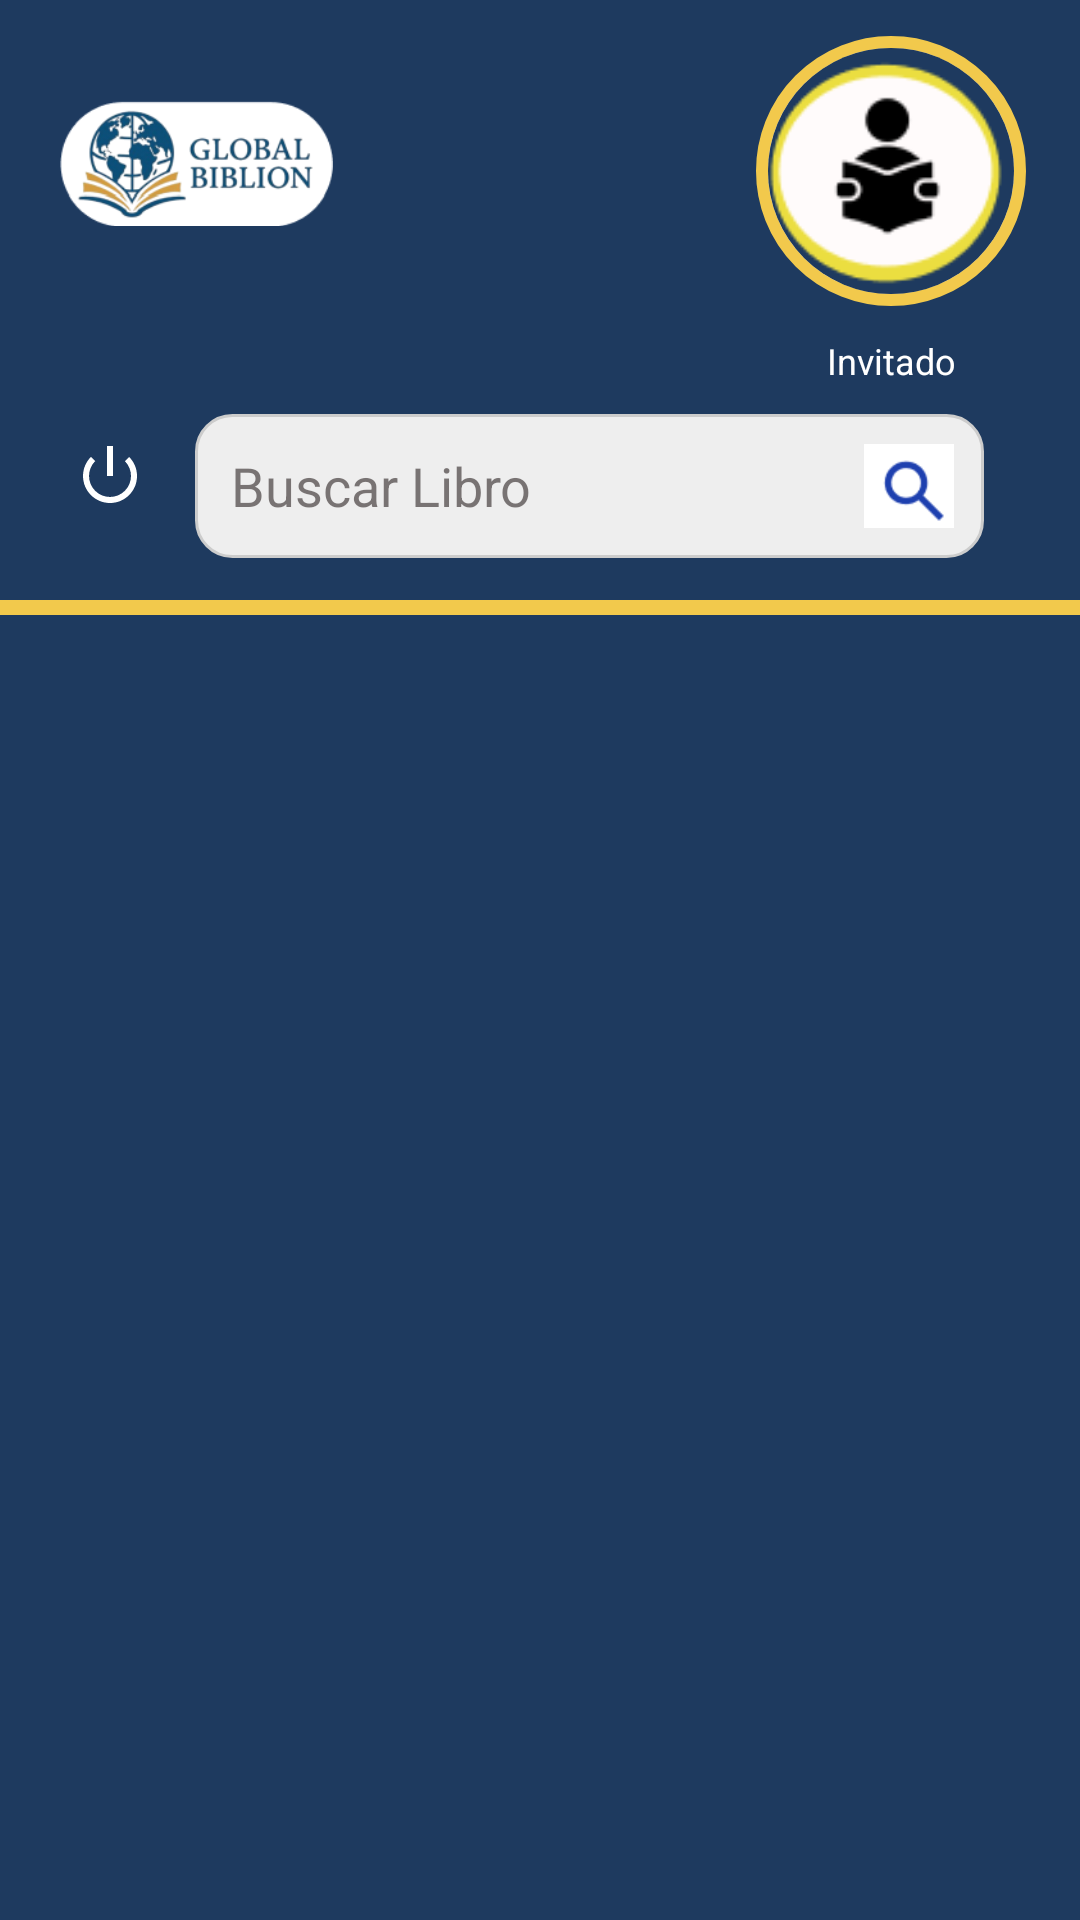

Named icons in this screenshot (1080px x 1920px) and their bounding boxes, (x1,y1,x2,y2):
Cerrar sesión: (83,446,137,503)
Perfil: (770,64,1002,283)
